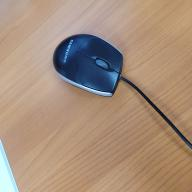mouse: (52, 32, 124, 98)
